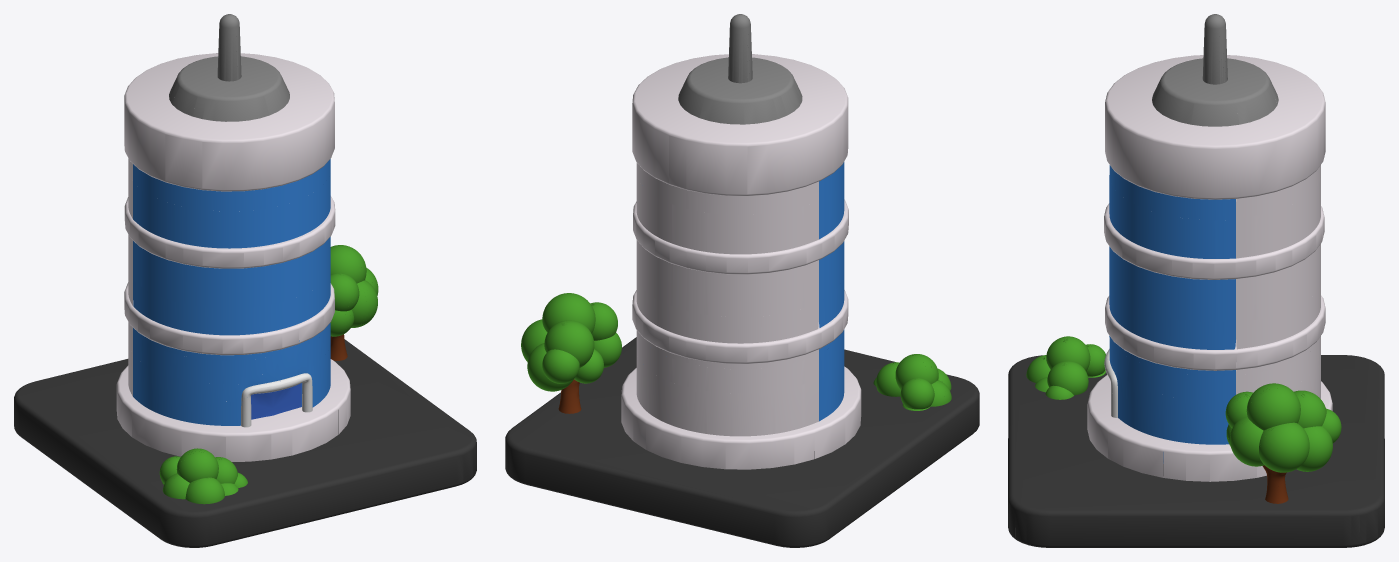
Rendered from lab.glb.
3 views of the same model, side by side, from view 1: azimuth 30°, elevation 25°; view 2: azimuth 150°, elevation 25°; view 3: azimuth 270°, elevation 25° (orthographic). The views are drawn at different scales.
Parts seen in each view (by area): view 1: Cube.114; view 2: Cube.114; view 3: Cube.114.
Part boxes in pixels (x1=…): Cube.114: x1=14, y1=14, x2=476, y2=547; Cube.114: x1=505, y1=14, x2=979, y2=547; Cube.114: x1=1008, y1=14, x2=1384, y2=547.
Bounding box in the file's own units: 1 × 1.26 × 0.9542.
